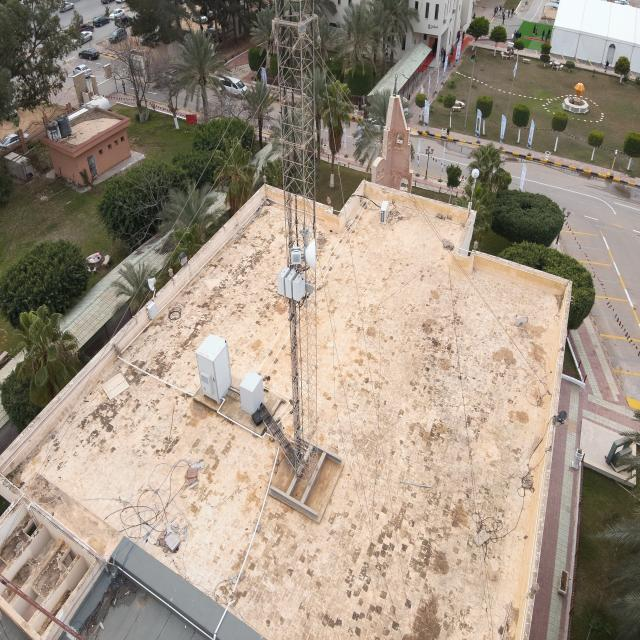microware-dish: (290, 238, 320, 273)
power-box: (277, 266, 307, 302)
